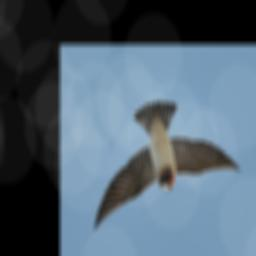Swallow: (92, 93, 245, 249)
